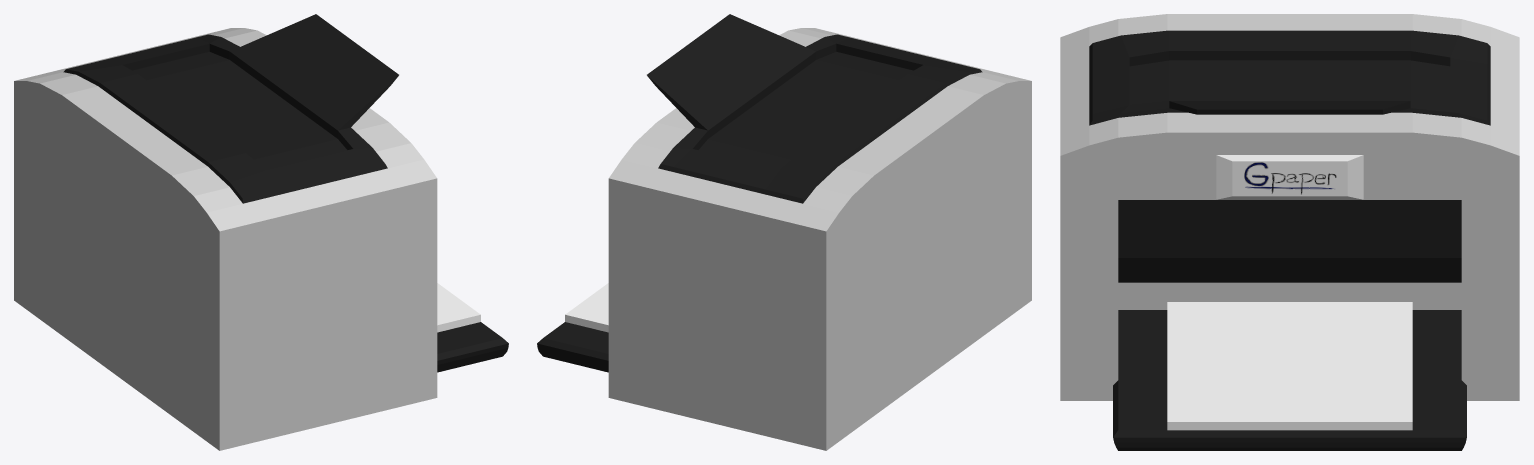
Rendered from Printer.fbx.
3 views of the same model, side by side, from view 1: azimuth 30°, elevation 25°; view 2: azimuth 150°, elevation 25°; view 3: azimuth 270°, elevation 25° (orthographic). The views are drawn at different scales.
Visible parts, largest first — view 1: Printer; view 2: Printer; view 3: Printer.
Boxes of the visible parts, bbox=[...] form: Printer: bbox=[14, 14, 508, 450]; Printer: bbox=[537, 14, 1031, 450]; Printer: bbox=[1060, 14, 1519, 450].
Size of the model in its own units: 288 by 239 by 327.
Materials: 4 (1 with a texture image).
